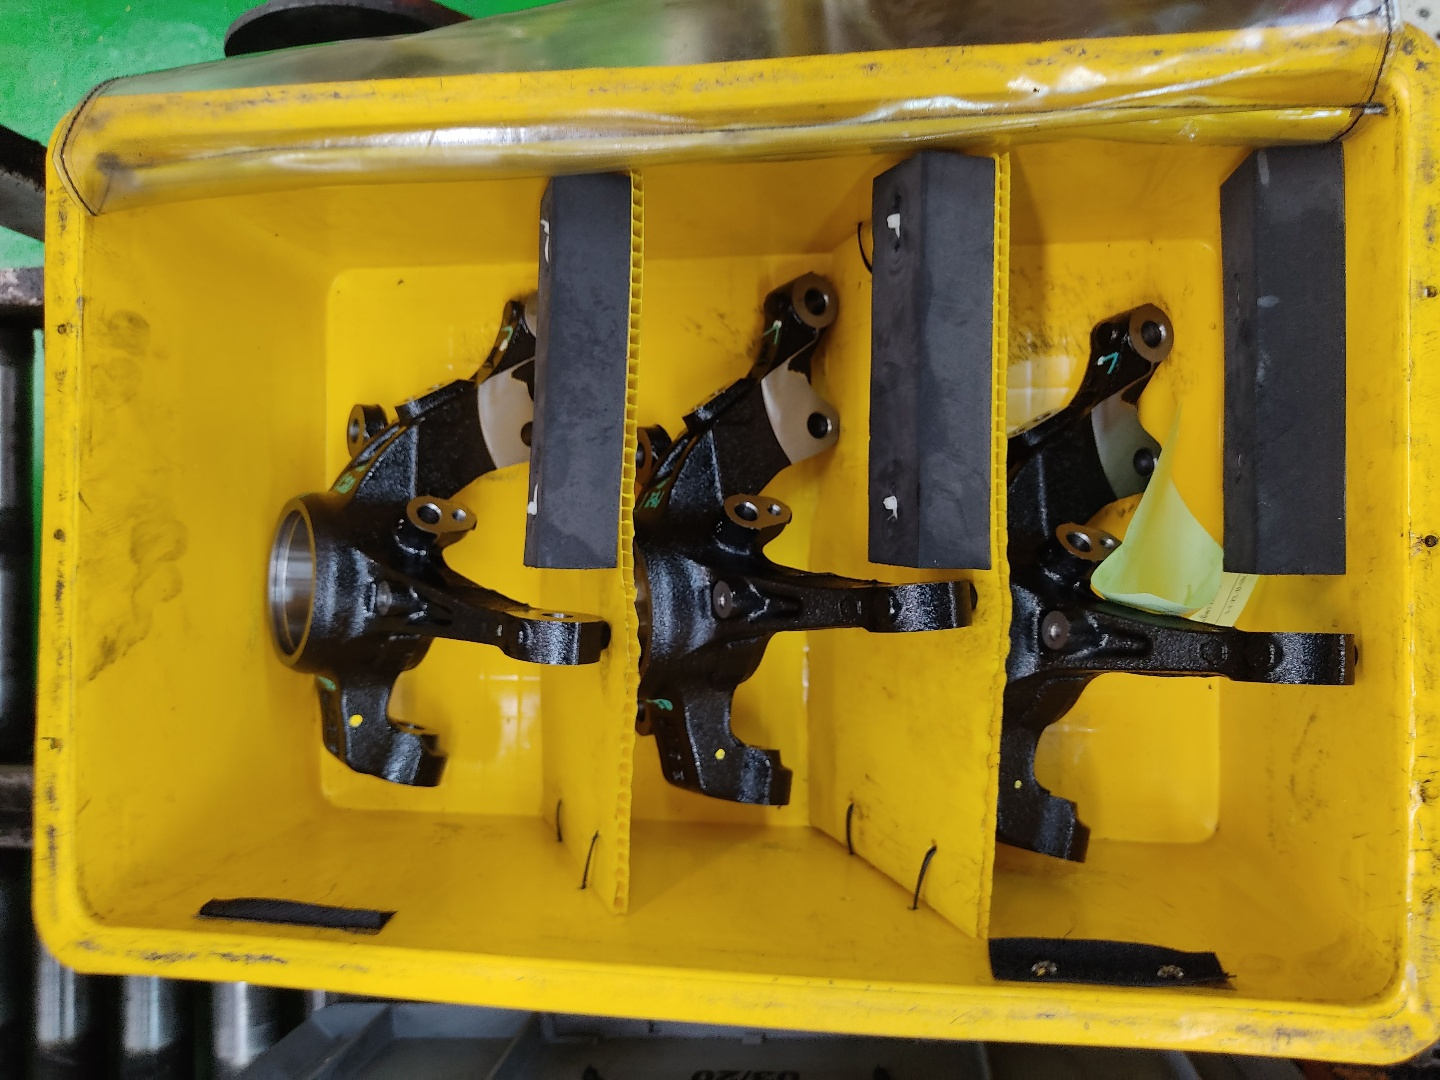abs-lh: (999, 292, 1367, 868), (632, 264, 986, 811), (261, 280, 617, 803)
